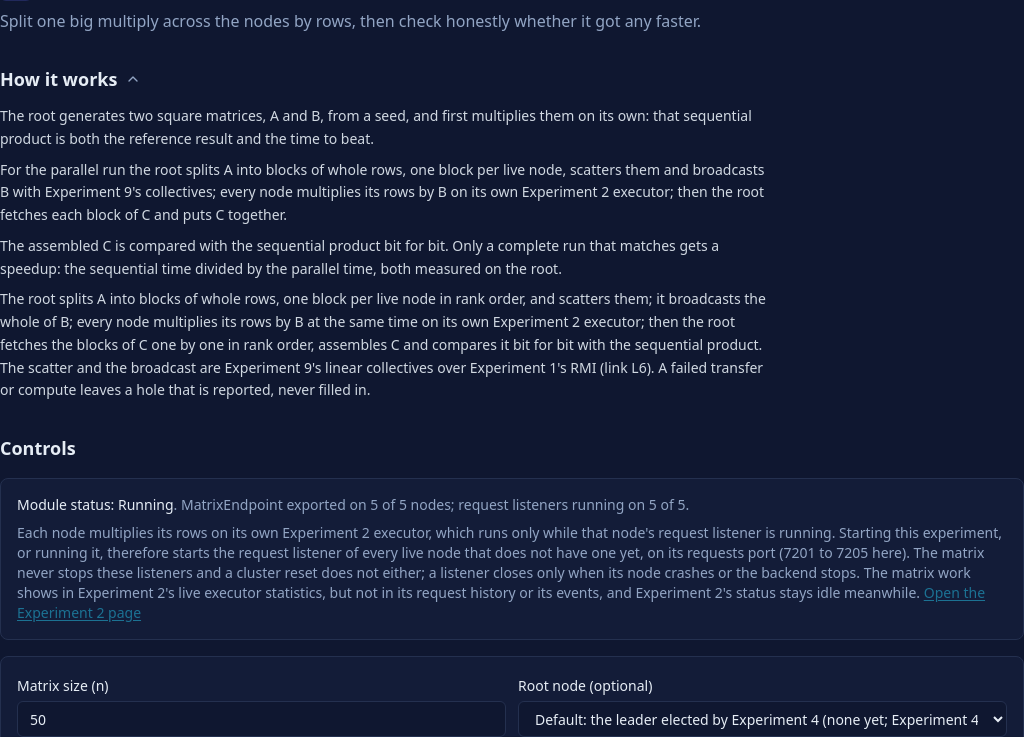
Test: MatrixPage: running › checks the size in the browser against the served bounds and sends nothing when it is out of range
expect the element with test id "module-status" is shown: met, box [17, 495, 689, 514]
Replace the text in the number field labelled "Matrix size (n)" with "317": (262, 719) [17, 701, 506, 736]
(page scrolled)
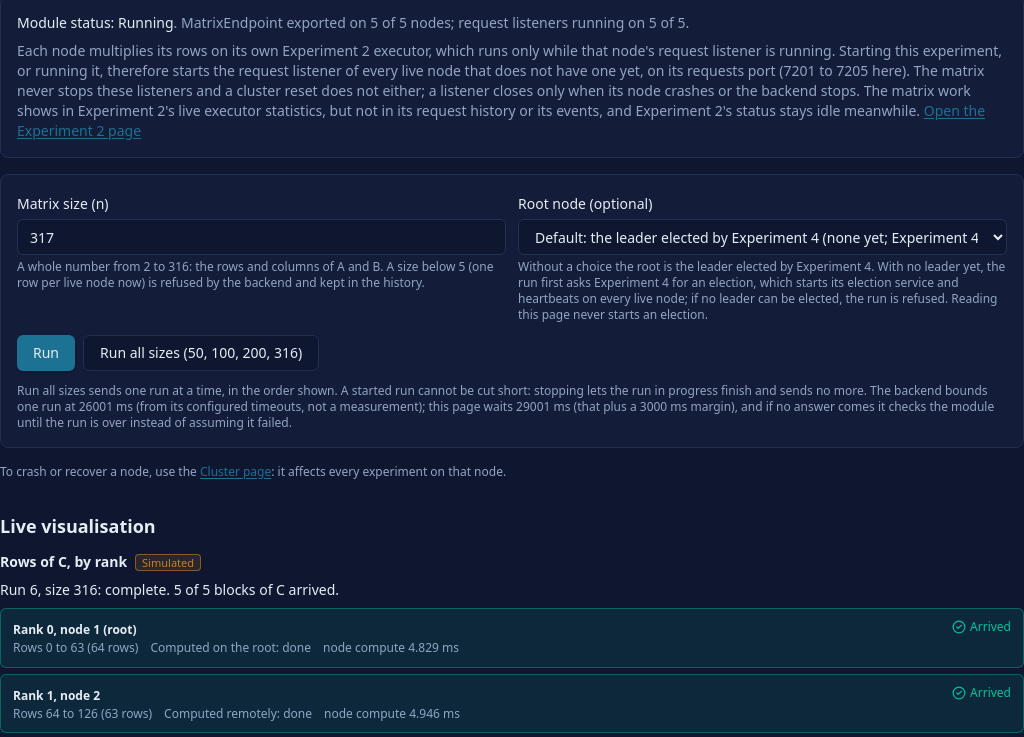
Click the button "Run": (46, 353) [17, 335, 75, 371]
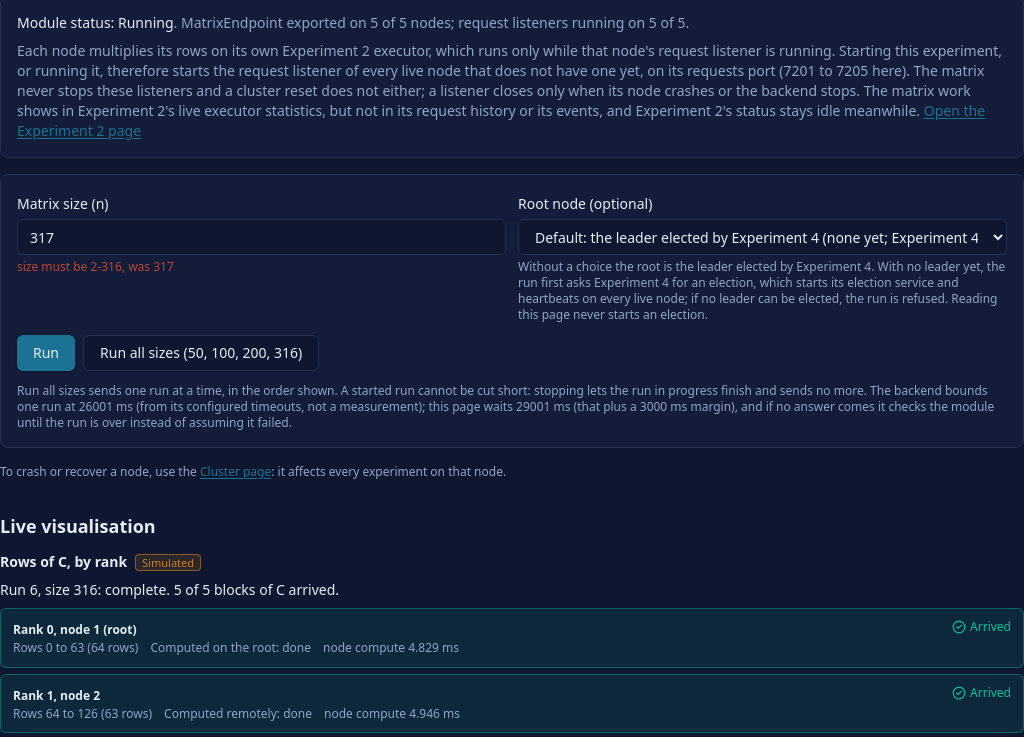
expect the text with test id "matrix-size-error" reads "size must be 2-316, was 317": met, box [17, 258, 174, 275]
